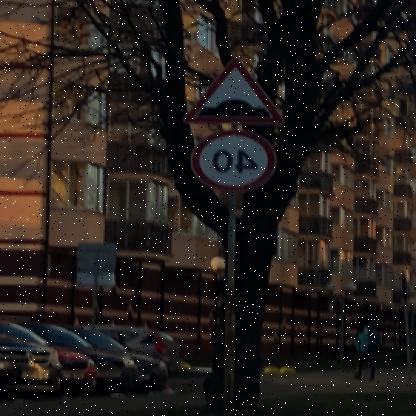speedlimit: (195, 128, 280, 190)
